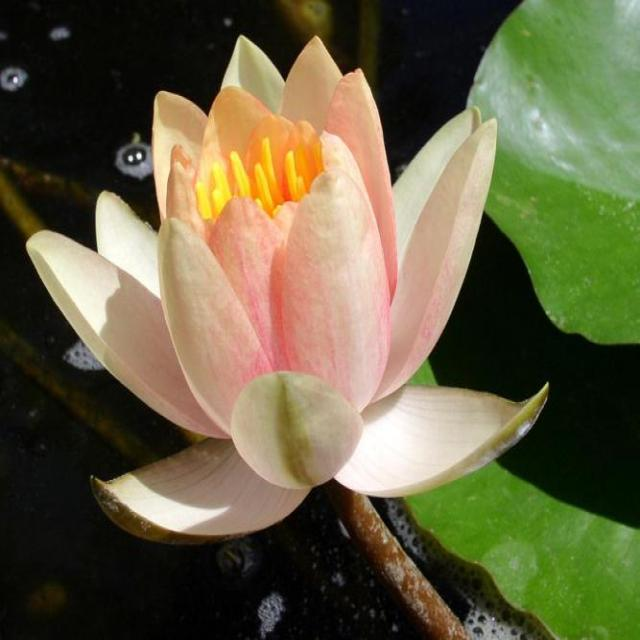rose: (10, 39, 599, 630)
